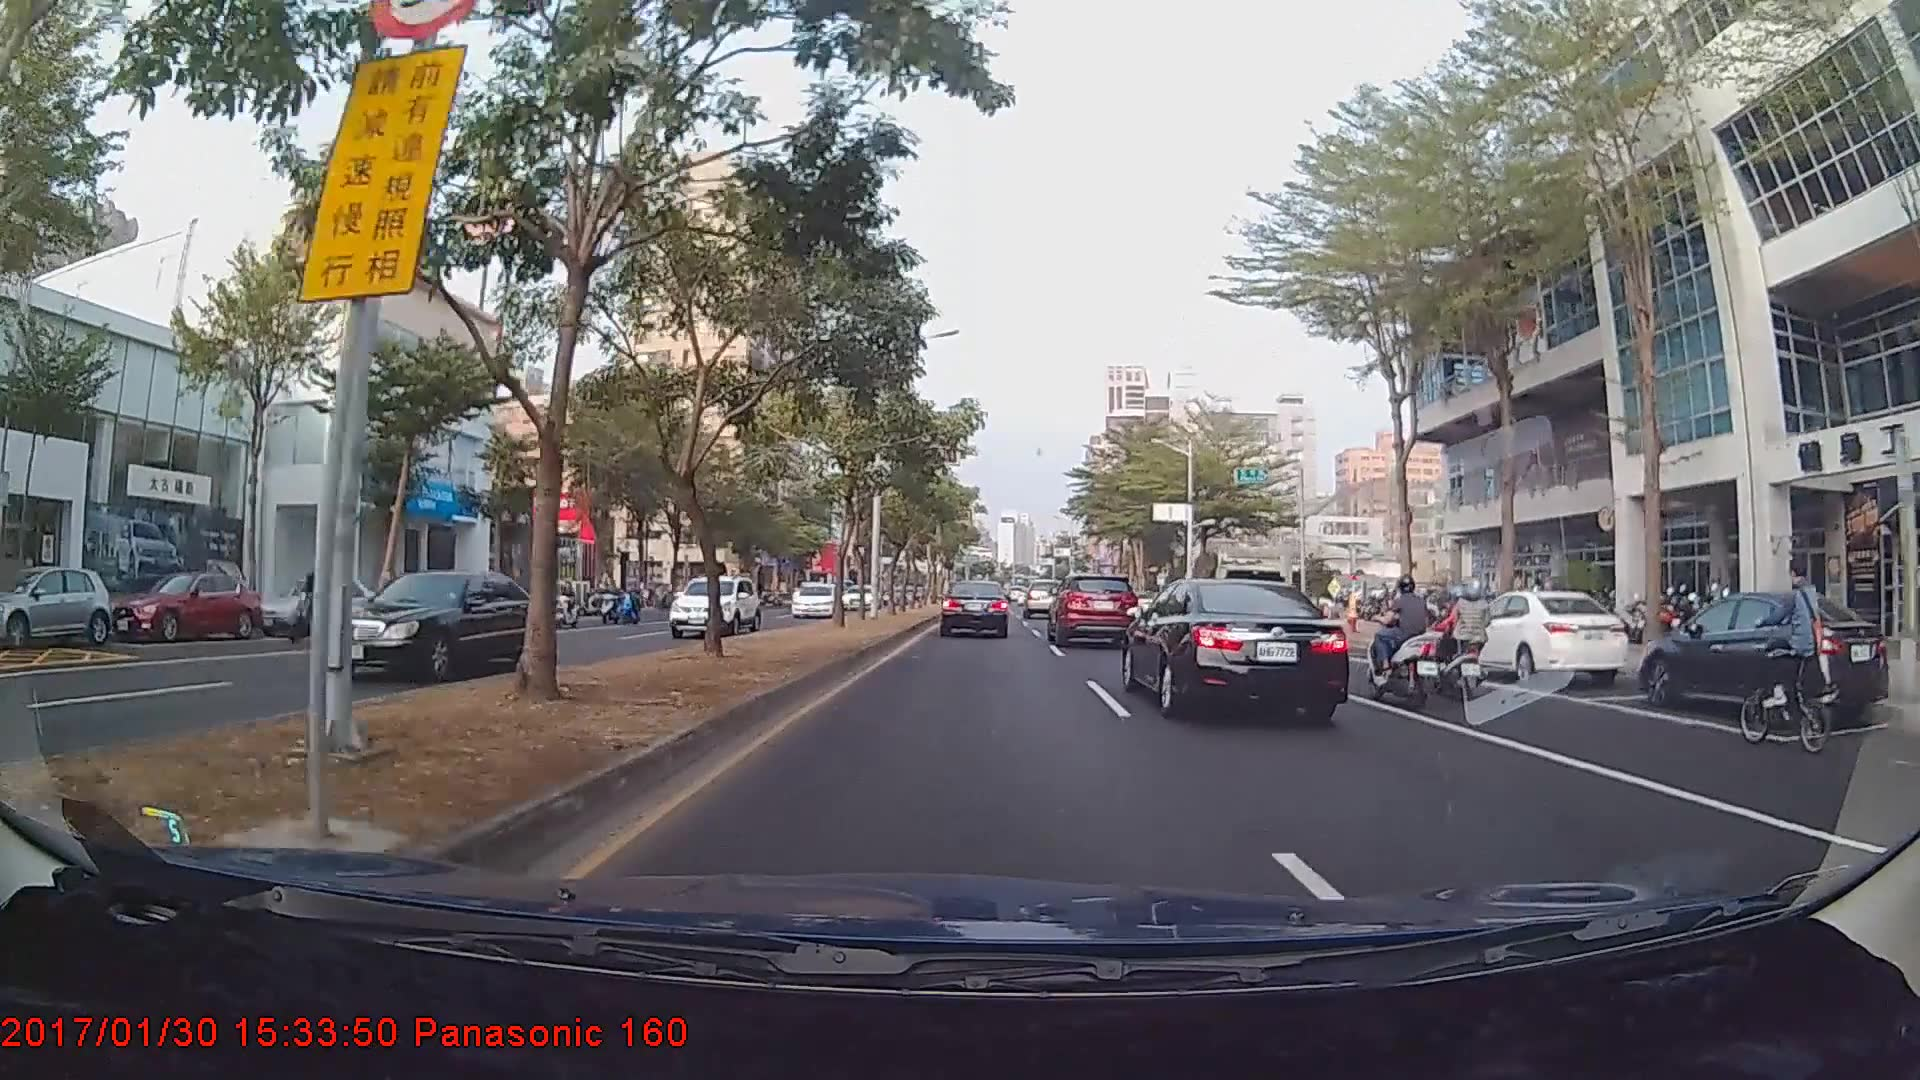rider: (1728, 566, 1853, 761), (1369, 572, 1456, 716), (1433, 578, 1498, 696), (282, 572, 339, 643)
vehicle: (1640, 587, 1890, 732), (1128, 571, 1348, 723), (313, 567, 554, 685), (1464, 585, 1624, 685), (91, 572, 263, 646), (0, 564, 112, 646), (257, 575, 381, 637), (1049, 571, 1136, 648), (667, 573, 763, 639), (940, 579, 1010, 638), (790, 580, 837, 619), (1023, 579, 1056, 617)
